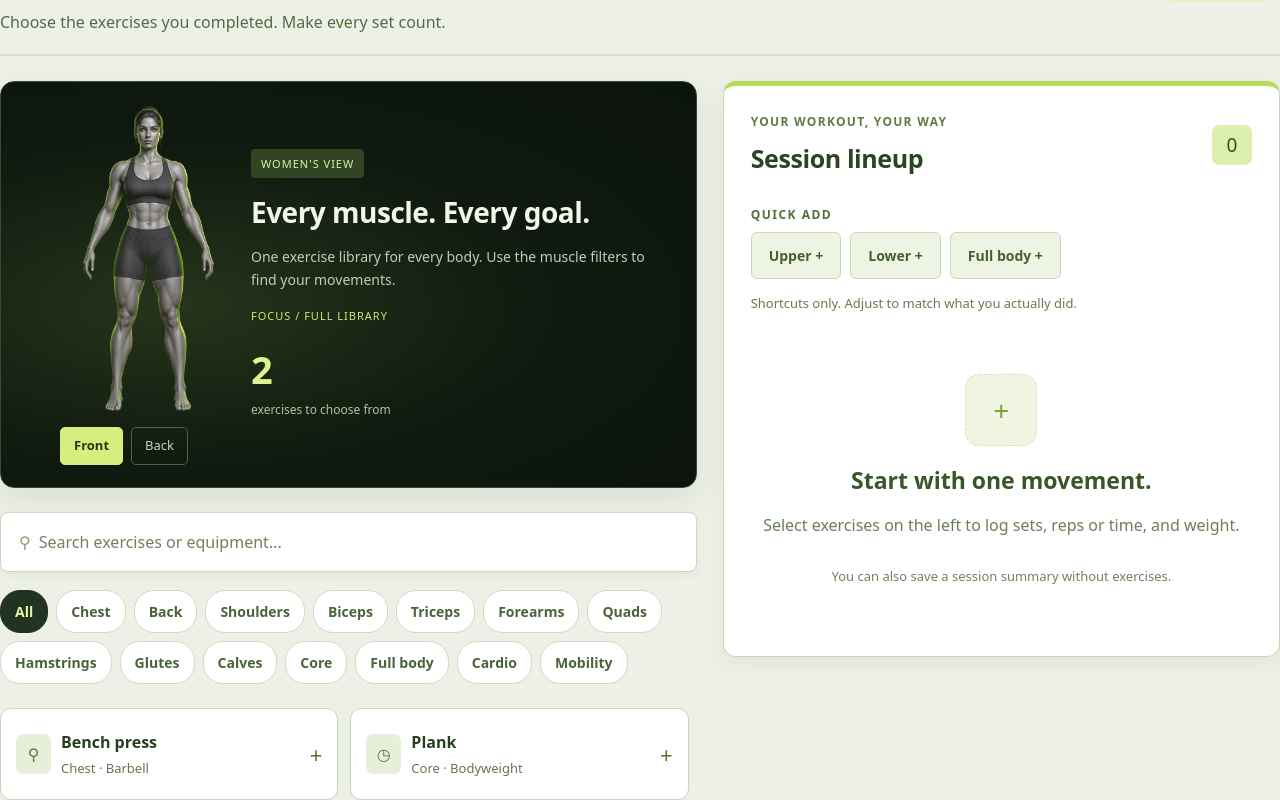
Test: Exercise picker › filters by muscle group and search without deleting selected exercises
(page scrolled)
Click the button with class "exercise-option" that starts with "Bench press" at {"x": 34, "y": 754}, box [0, 708, 338, 799]
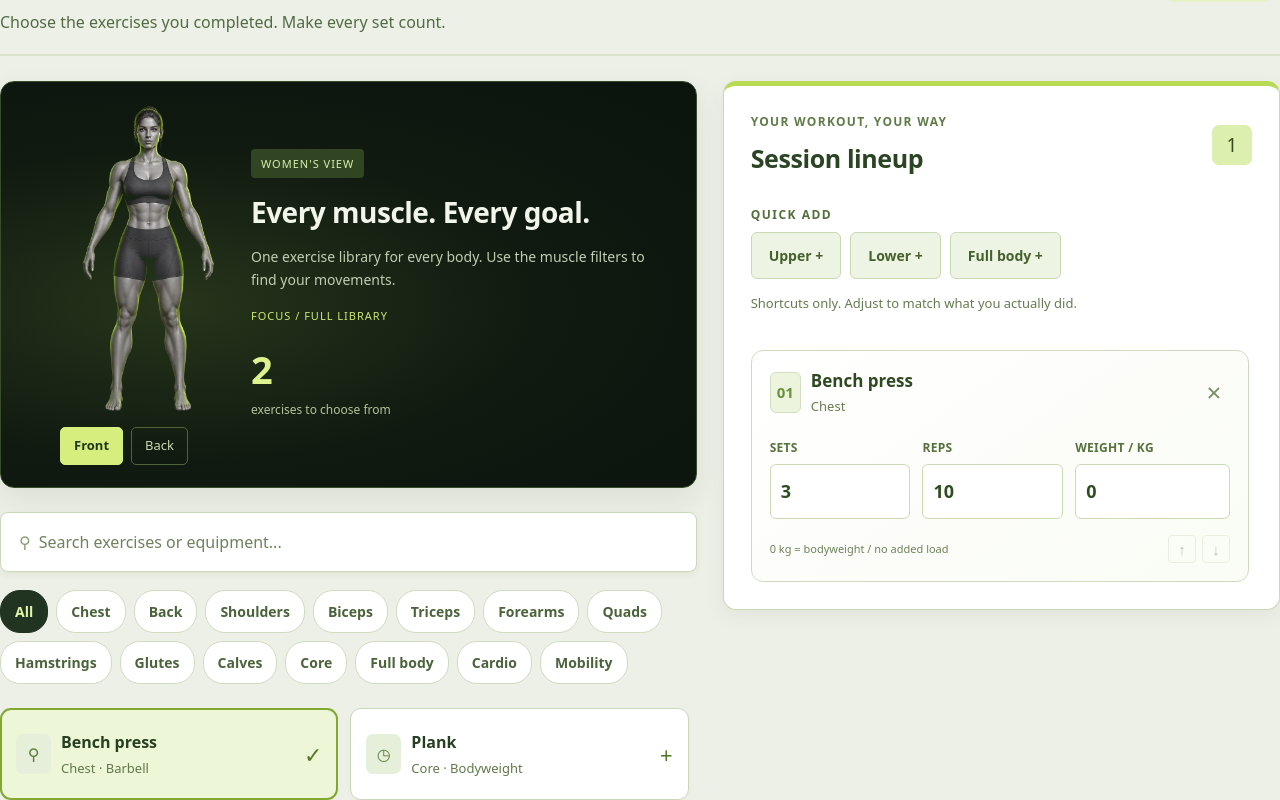
Click the button "Core" at {"x": 316, "y": 662}, box [285, 641, 347, 684]
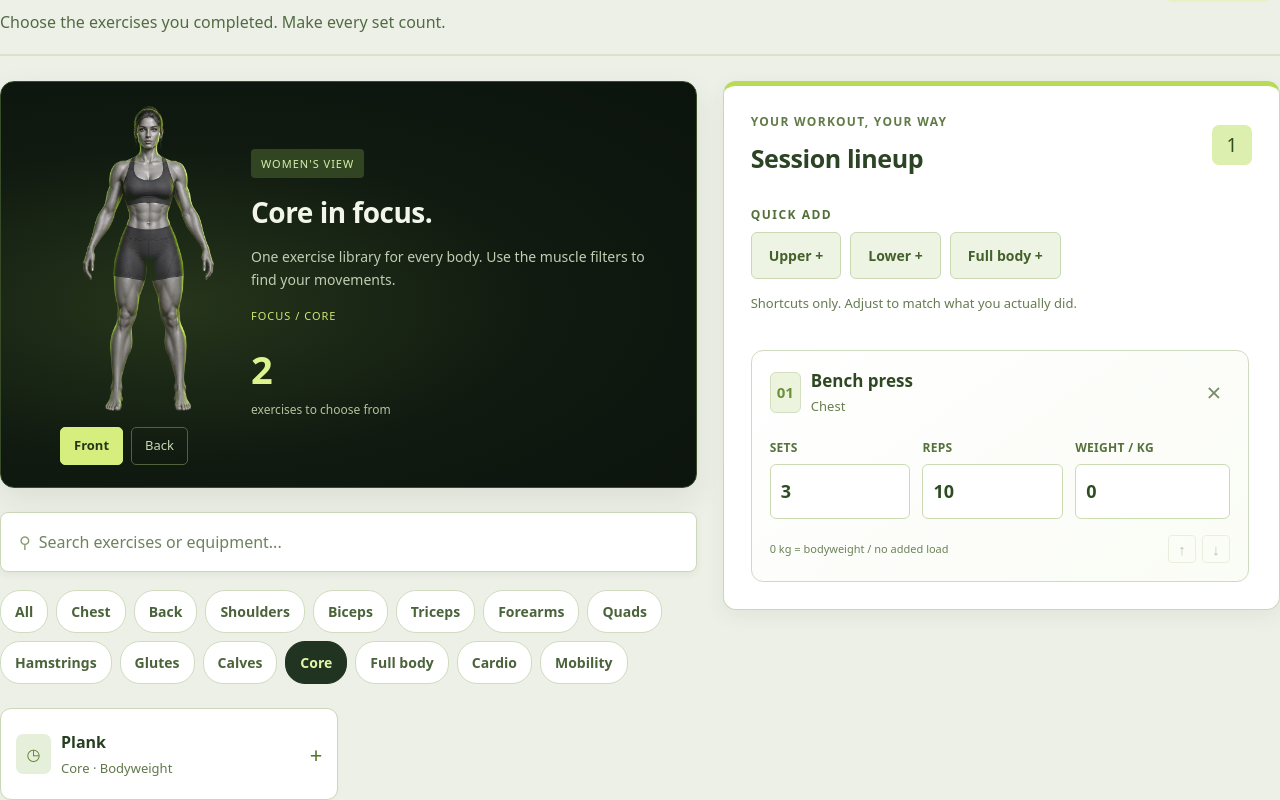
expect the button with class "exercise-option" shows "Plank": met, box [0, 708, 338, 799]
expect the number of buttons with class "exercise-option" is 1: met, box [0, 708, 338, 799]
